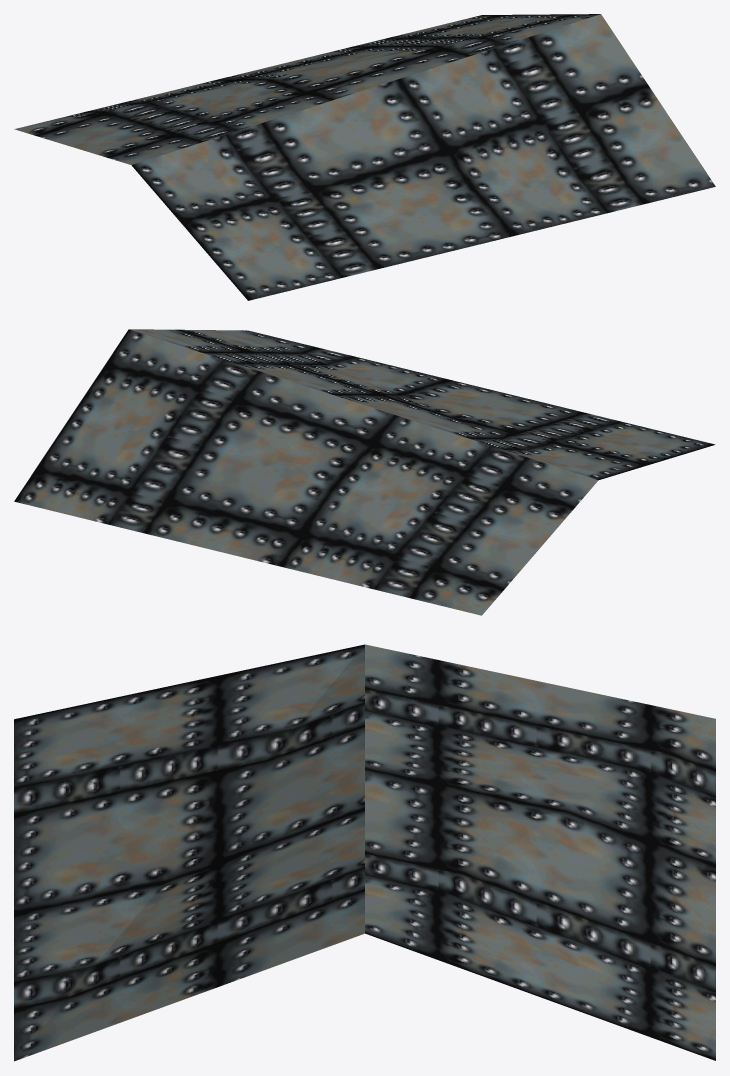
Rendered from Dach_GroßGepanzert_489.glb.
3 renders of one model, top to bottom at view 1: azimuth 30°, elevation 25°; view 2: azimuth 150°, elevation 25°; view 3: azimuth 270°, elevation 25°, orthographic. The views are drawn at different scales.
Parts seen in each view (by area): view 1: pCylinderShape114, pCylinderShape112; view 2: pCylinderShape112, pCylinderShape114; view 3: pCylinderShape114, pCylinderShape112.
Boxes of the visible parts, x1,y1,x2,y2 form: pCylinderShape114: [131, 14, 715, 300]; pCylinderShape112: [14, 14, 600, 164]; pCylinderShape112: [14, 329, 598, 615]; pCylinderShape114: [130, 329, 715, 480]; pCylinderShape114: [14, 644, 364, 1061]; pCylinderShape112: [365, 644, 715, 1060].
Bounding box in the file's own units: 1.57 × 0.2768 × 1.36.
2 materials, 2 textured.
